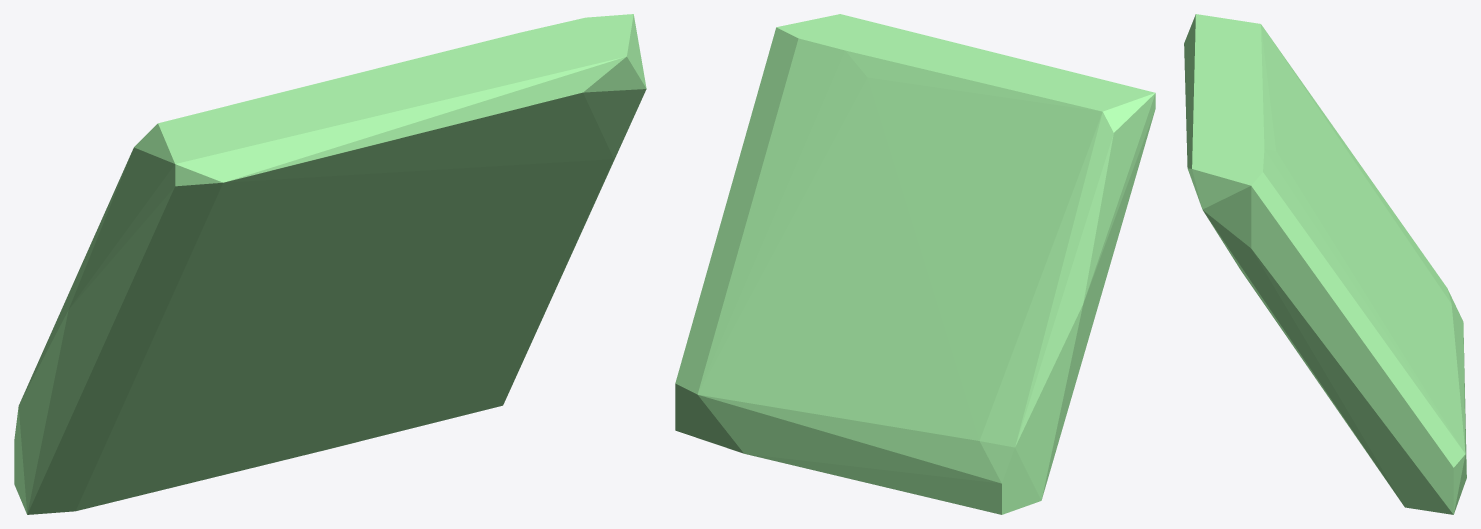
File: dxxx_robot_base_coll_5.dae
3 renders of one model, left to right at view 1: azimuth 30°, elevation 25°; view 2: azimuth 150°, elevation 25°; view 3: azimuth 270°, elevation 25°, orthographic. The views are drawn at different scales.
Visible parts, largest first — view 1: Node_000001D818CBBB90; view 2: Node_000001D818CBBB90; view 3: Node_000001D818CBBB90.
Boxes of the visible parts, x1=… form: Node_000001D818CBBB90: x1=14, y1=14, x2=646, y2=514; Node_000001D818CBBB90: x1=675, y1=14, x2=1155, y2=514; Node_000001D818CBBB90: x1=1184, y1=14, x2=1466, y2=514.
Bounding box in the file's own units: 0.087 × 0.0775 × 0.0603.
